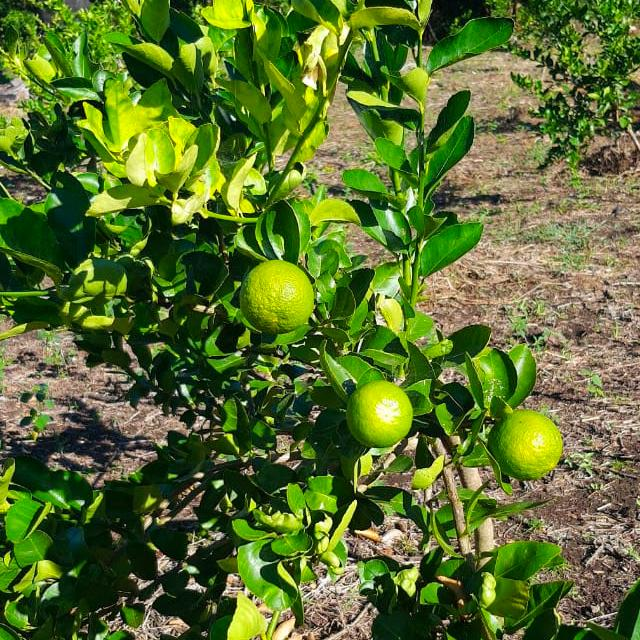lime: (239, 260, 316, 340), (343, 380, 417, 455), (491, 407, 564, 483)
